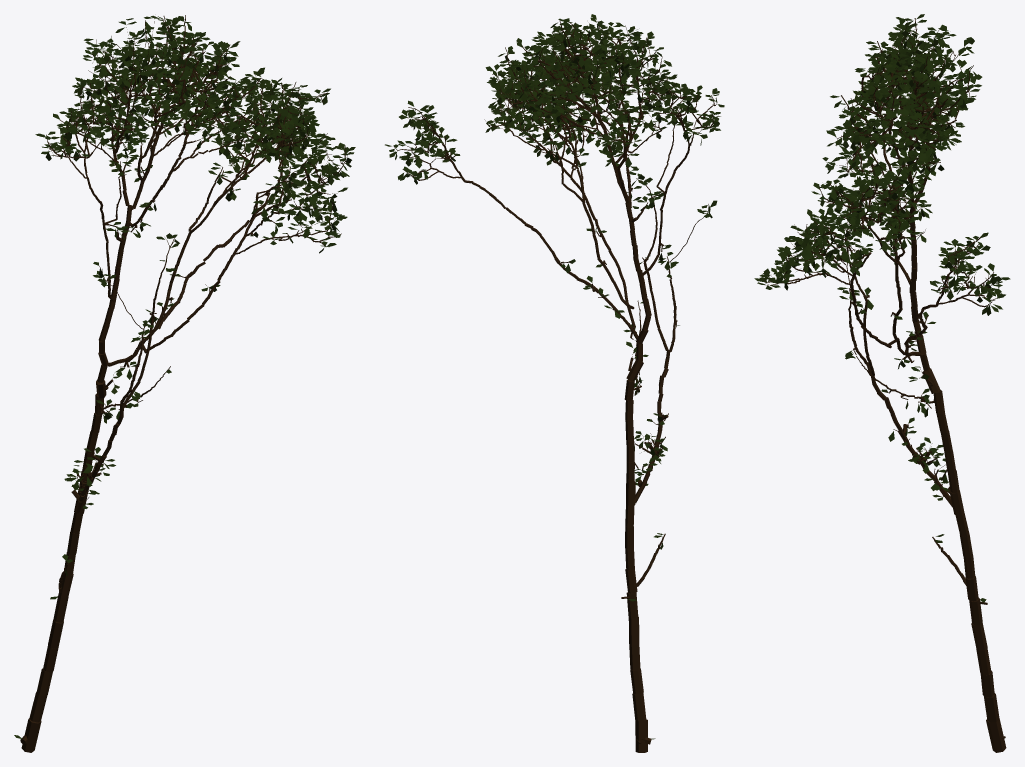
The model's file is tree_103.obj.
3 views of the same model, side by side, from view 1: azimuth 30°, elevation 25°; view 2: azimuth 150°, elevation 25°; view 3: azimuth 270°, elevation 25° (orthographic). The views are drawn at different scales.
Visible parts, largest first — view 1: Leaves, TrunkAndBranches; view 2: Leaves, TrunkAndBranches; view 3: Leaves, TrunkAndBranches.
Boxes of the visible parts, left/top/right/bottom form: Leaves: left=14, top=15, right=355, bottom=739; TrunkAndBranches: left=20, top=15, right=348, bottom=752; Leaves: left=385, top=14, right=724, bottom=739; TrunkAndBranches: left=394, top=20, right=717, bottom=752; Leaves: left=754, top=14, right=1010, bottom=602; TrunkAndBranches: left=764, top=18, right=1006, bottom=752.
Size of the model in its own units: 9.26 by 20.72 by 6.3.
